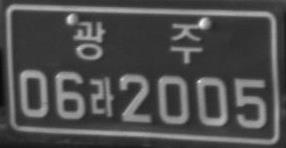0: (194, 75, 229, 128), (156, 73, 190, 126), (18, 68, 50, 118)
2: (118, 73, 153, 124)
5: (232, 76, 269, 131)
6: (53, 70, 86, 120)
광주_D: (73, 19, 204, 64)
라: (88, 75, 115, 118)
